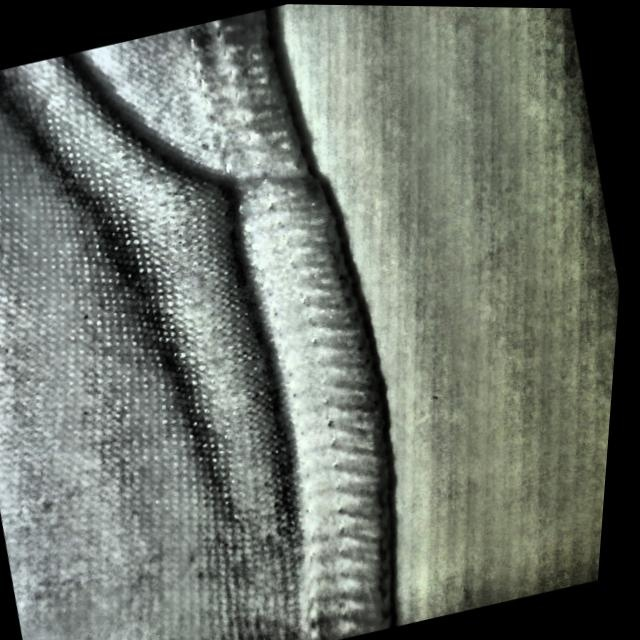seam: (35, 43, 385, 396)
